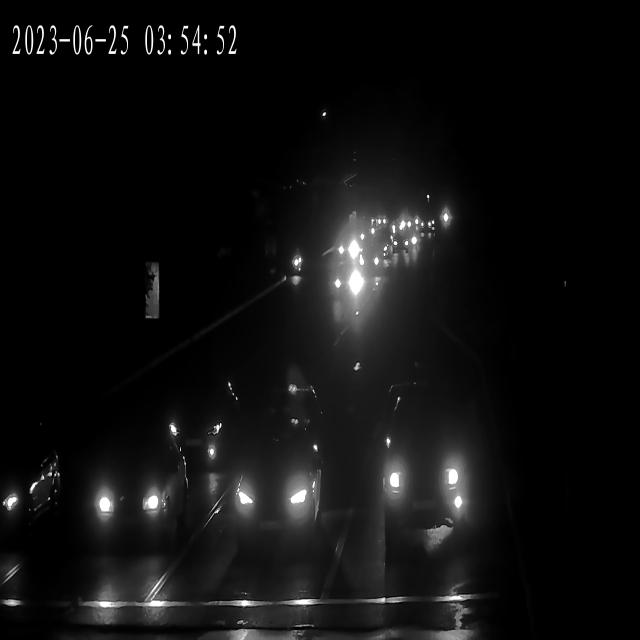Car: (61, 440, 188, 552), (369, 410, 478, 525), (222, 442, 320, 545), (0, 434, 61, 548), (159, 378, 239, 463), (331, 267, 365, 301), (354, 243, 388, 271), (334, 236, 366, 262), (390, 232, 416, 256), (393, 230, 420, 253), (390, 214, 416, 232), (352, 225, 379, 242), (354, 223, 383, 238), (351, 228, 378, 244), (413, 218, 434, 234), (369, 214, 389, 230)
